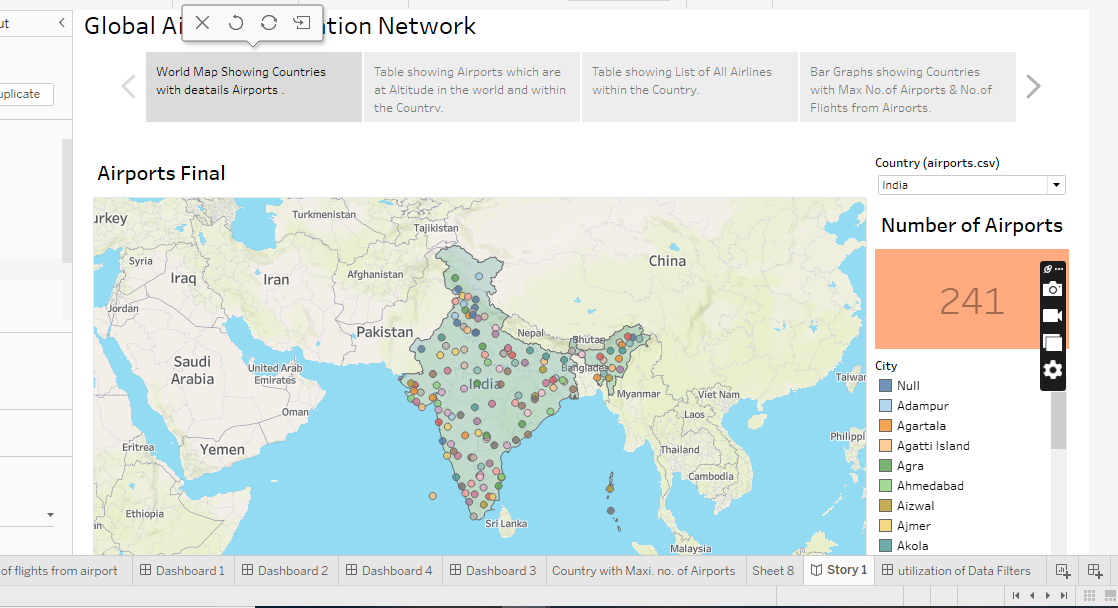

Layout of this report page (visuals, bound fields, positions):
{"tool":"tableau","page":{"name":"Dashboard 1","canvas":[1000,800],"ordinal":0},"visuals":[{"type":"worksheet","title":"Airports Final","mark":"Multipolygon","rows":["Latitude"],"cols":["Longitude","Longitude"],"box":[8,8,782,784]},{"type":"filter","title":"Airports Final","param":"[federated.12byijz1si6xmv18ua5wi1x2ltqk].[none:Country (airports.csv):nk]","box":[790,8,202,52]},{"type":"worksheet","title":"No. of Airport","mark":"Automatic","box":[790,60,202,151]},{"type":"legend","title":"Airports Final","param":"[federated.12byijz1si6xmv18ua5wi1x2ltqk].[none:City:nk]","box":[790,211,202,445]},{"type":"filter","title":"No. of Airport","param":"[federated.12byijz1si6xmv18ua5wi1x2ltqk].[none:Country (airports.csv):nk]","box":[790,656,202,136]}]}

Visuals, with their boxes on the page's 1000x800 design canvas (x1, y1, x2, y2). These are canvas units, not pixel positions in the 1118x608 screenshot, which may show the page scaled, cropped or inside an application window:
"Airports Final" worksheet (Multipolygon marks): bbox=(8, 8, 790, 792)
"Airports Final" filter: bbox=(790, 8, 992, 60)
"No. of Airport" worksheet: bbox=(790, 60, 992, 211)
"Airports Final" legend: bbox=(790, 211, 992, 656)
"No. of Airport" filter: bbox=(790, 656, 992, 792)
